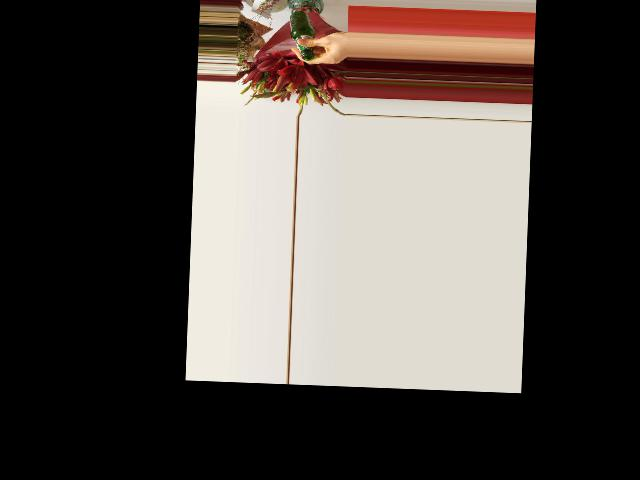beer: (288, 11, 316, 60)
